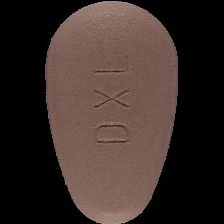0781-5619: (0, 0, 224, 224)
